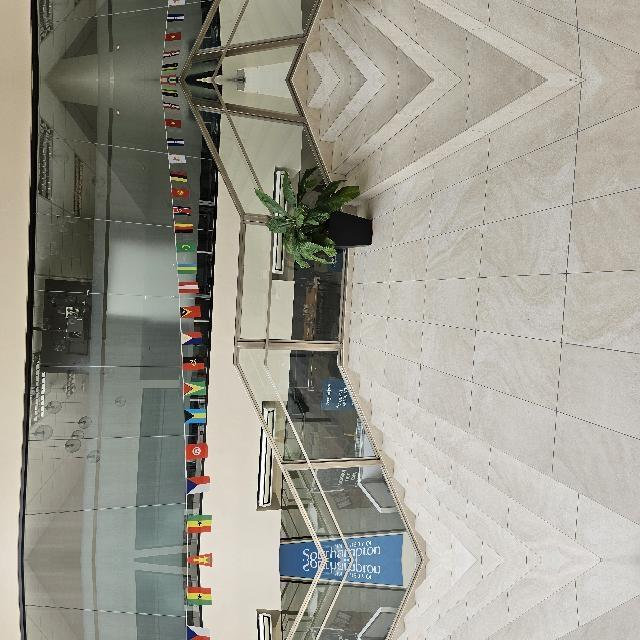obstacle: (286, 346, 382, 456)
